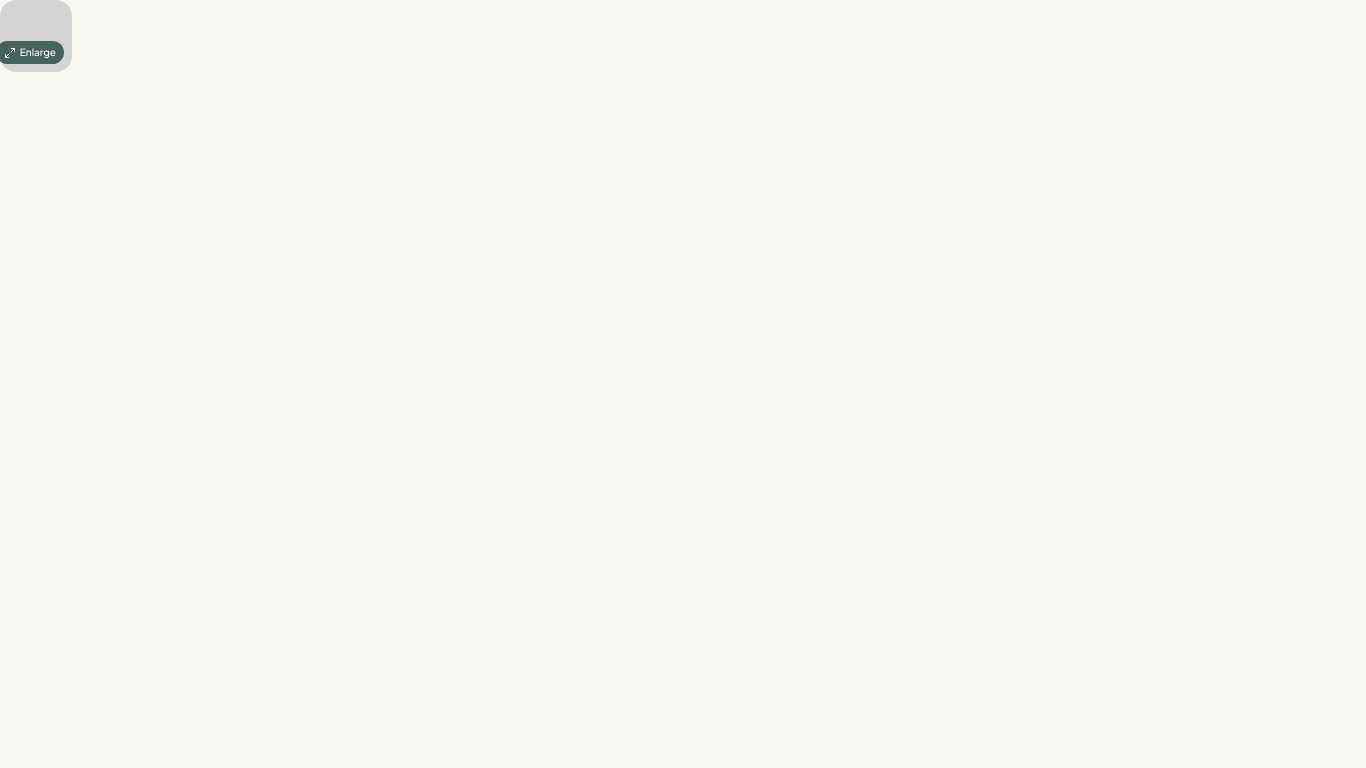
Scenario: EquationImage › closes with the close button, Escape and a backdrop click, and returns focus
Click the button with aria-label "View Net force on a free body? illustration full size". click: (36, 36)
box: [0,0,72,72]
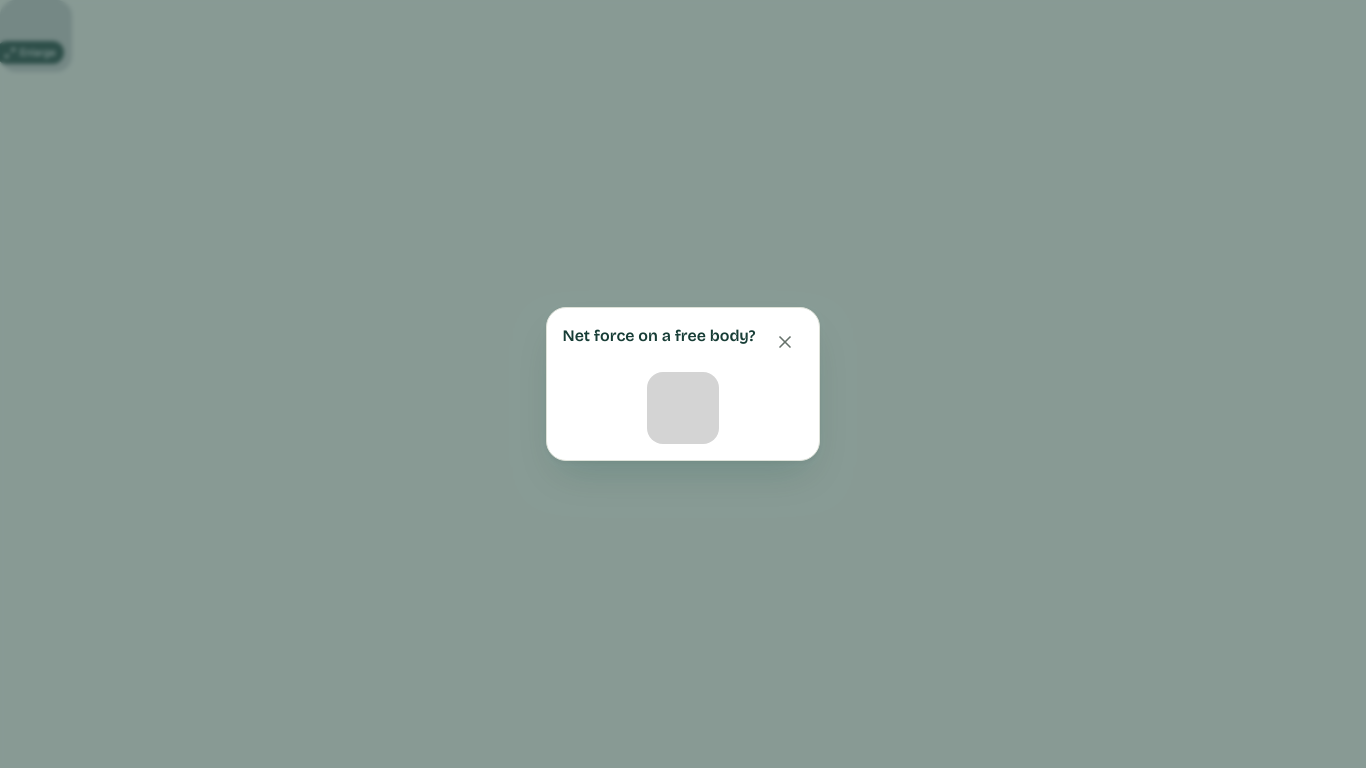
Click the button named "Close picture". click: (786, 342)
box: [768,324,804,360]
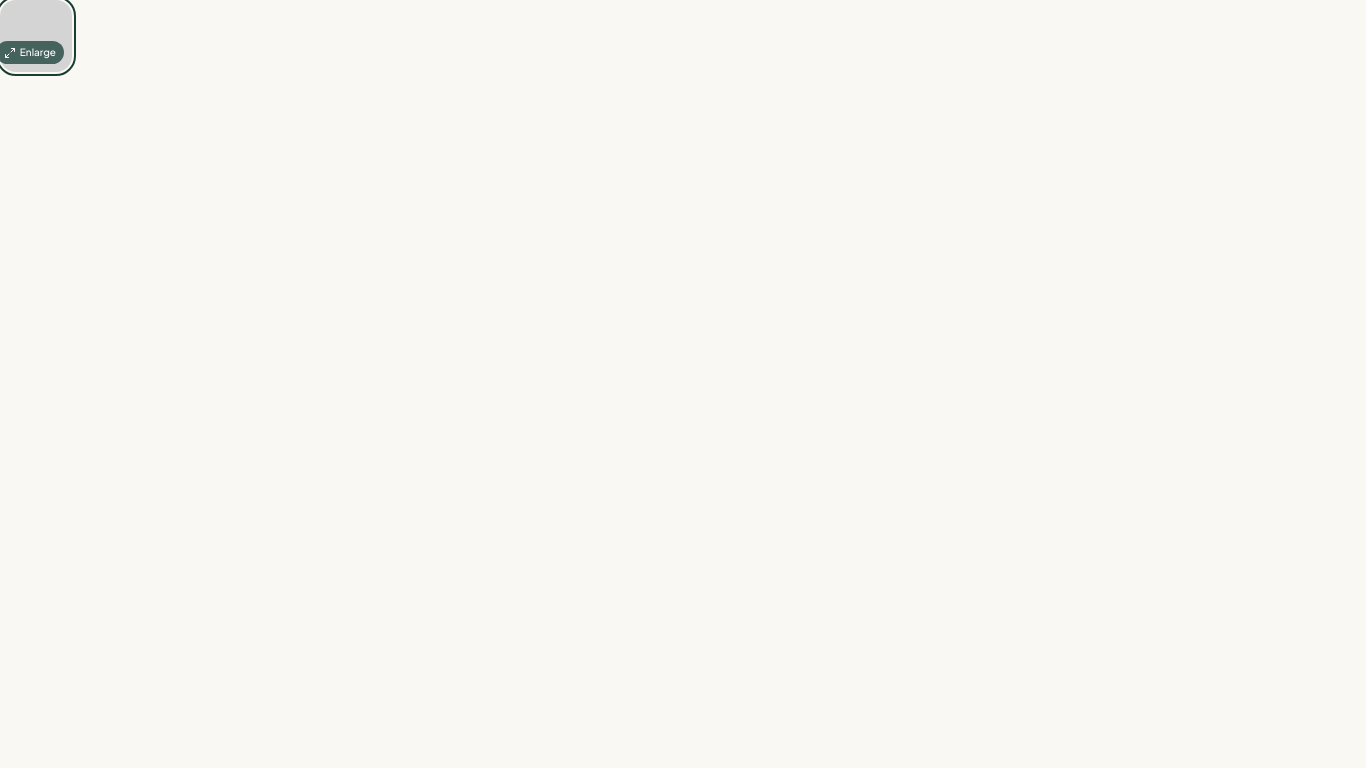
expect the dialog is gone: met
Click the button with aria-label "View Net force on a free body? illustration full size". click: (36, 36)
box: [0,0,72,72]
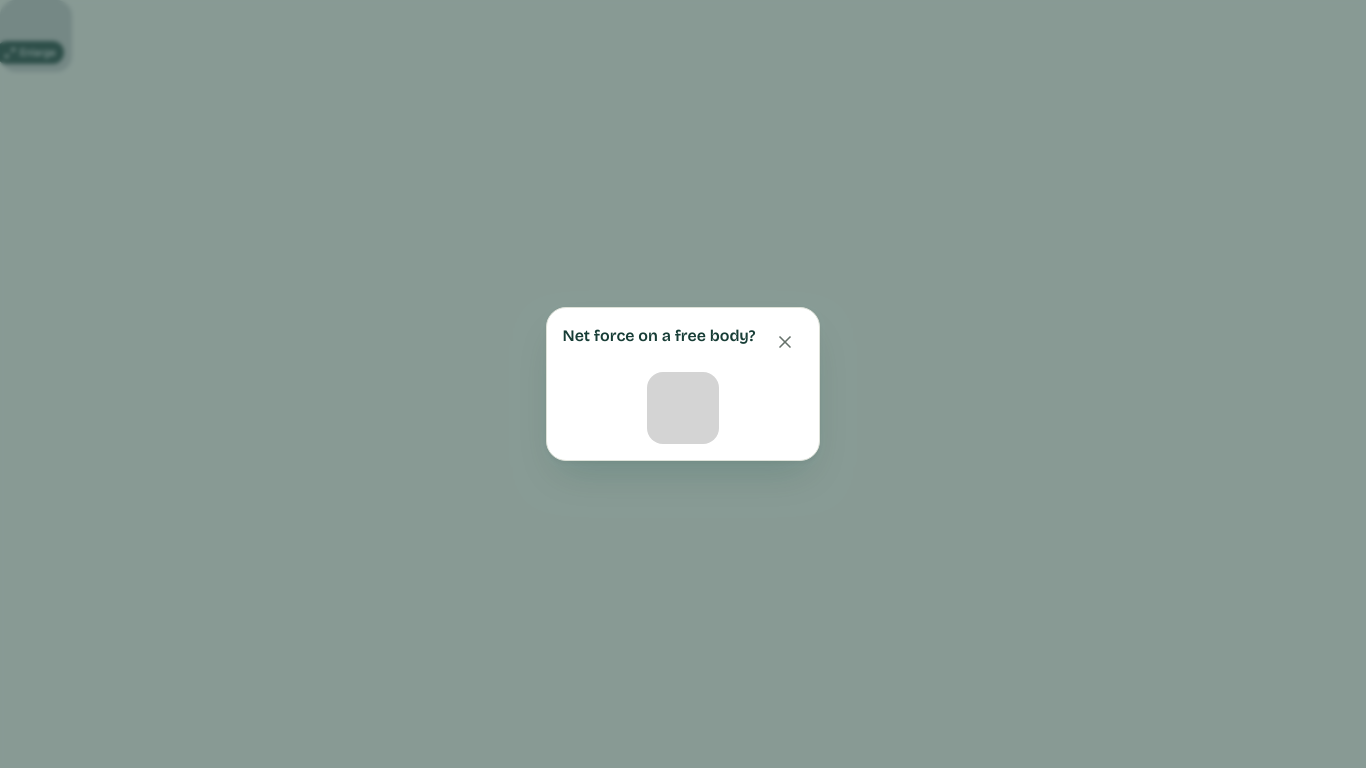
Press Escape
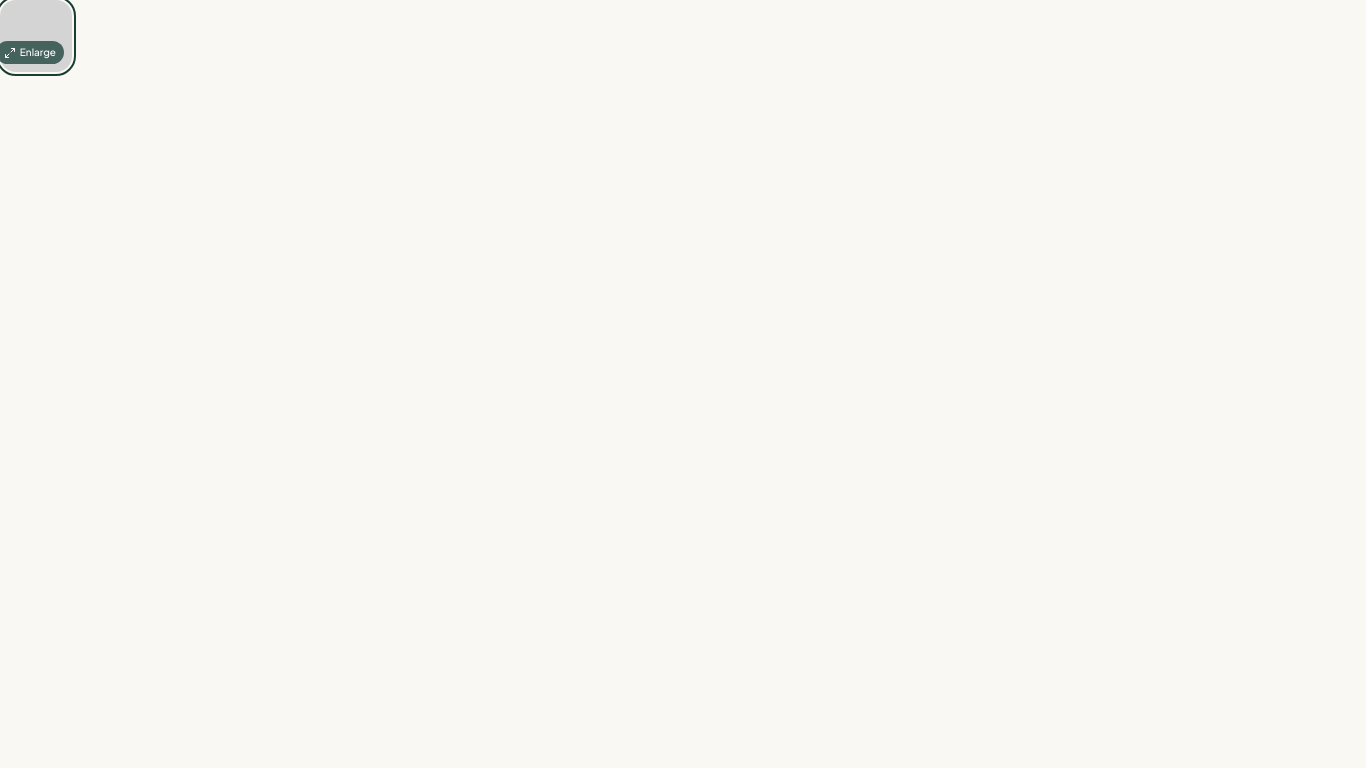
expect the dialog is gone: met
Click the button with aria-label "View Net force on a free body? illustration full size". click: (36, 36)
box: [0,0,72,72]
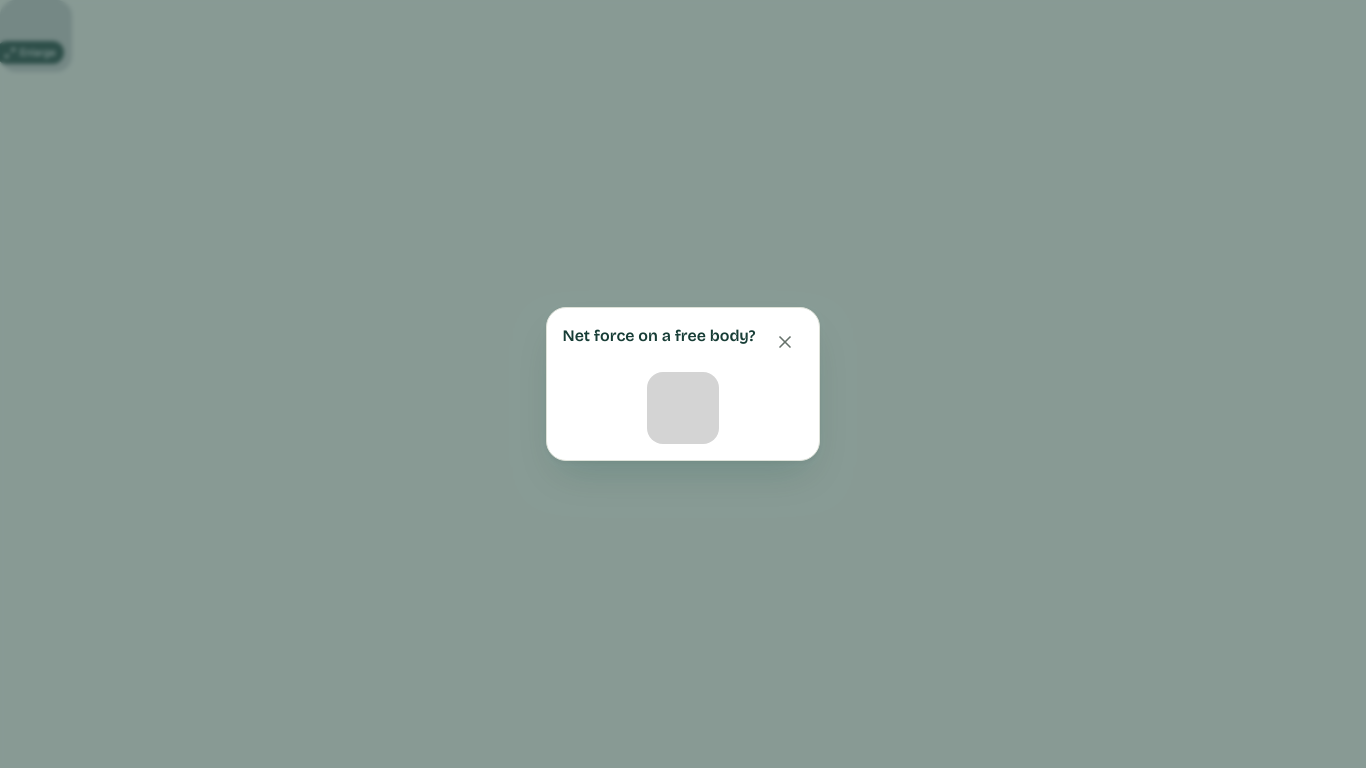
Press the mouse on the element showing "Net force on a free body?" at (683, 384), box [0,0,1365,767]
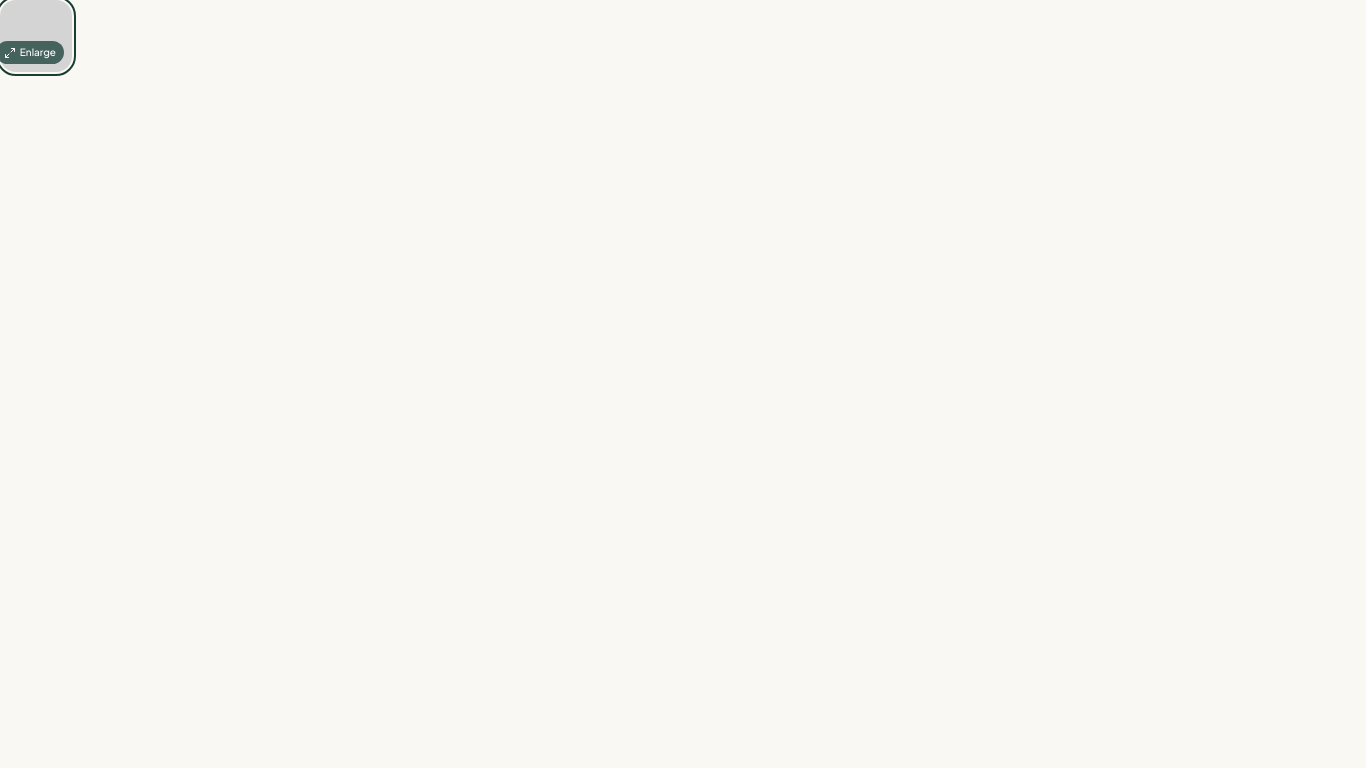
expect the dialog is gone: met
